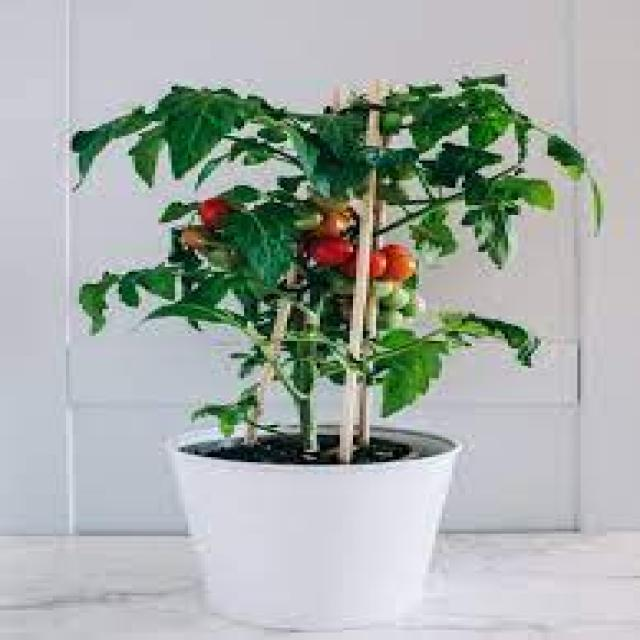plant: (63, 57, 606, 604)
